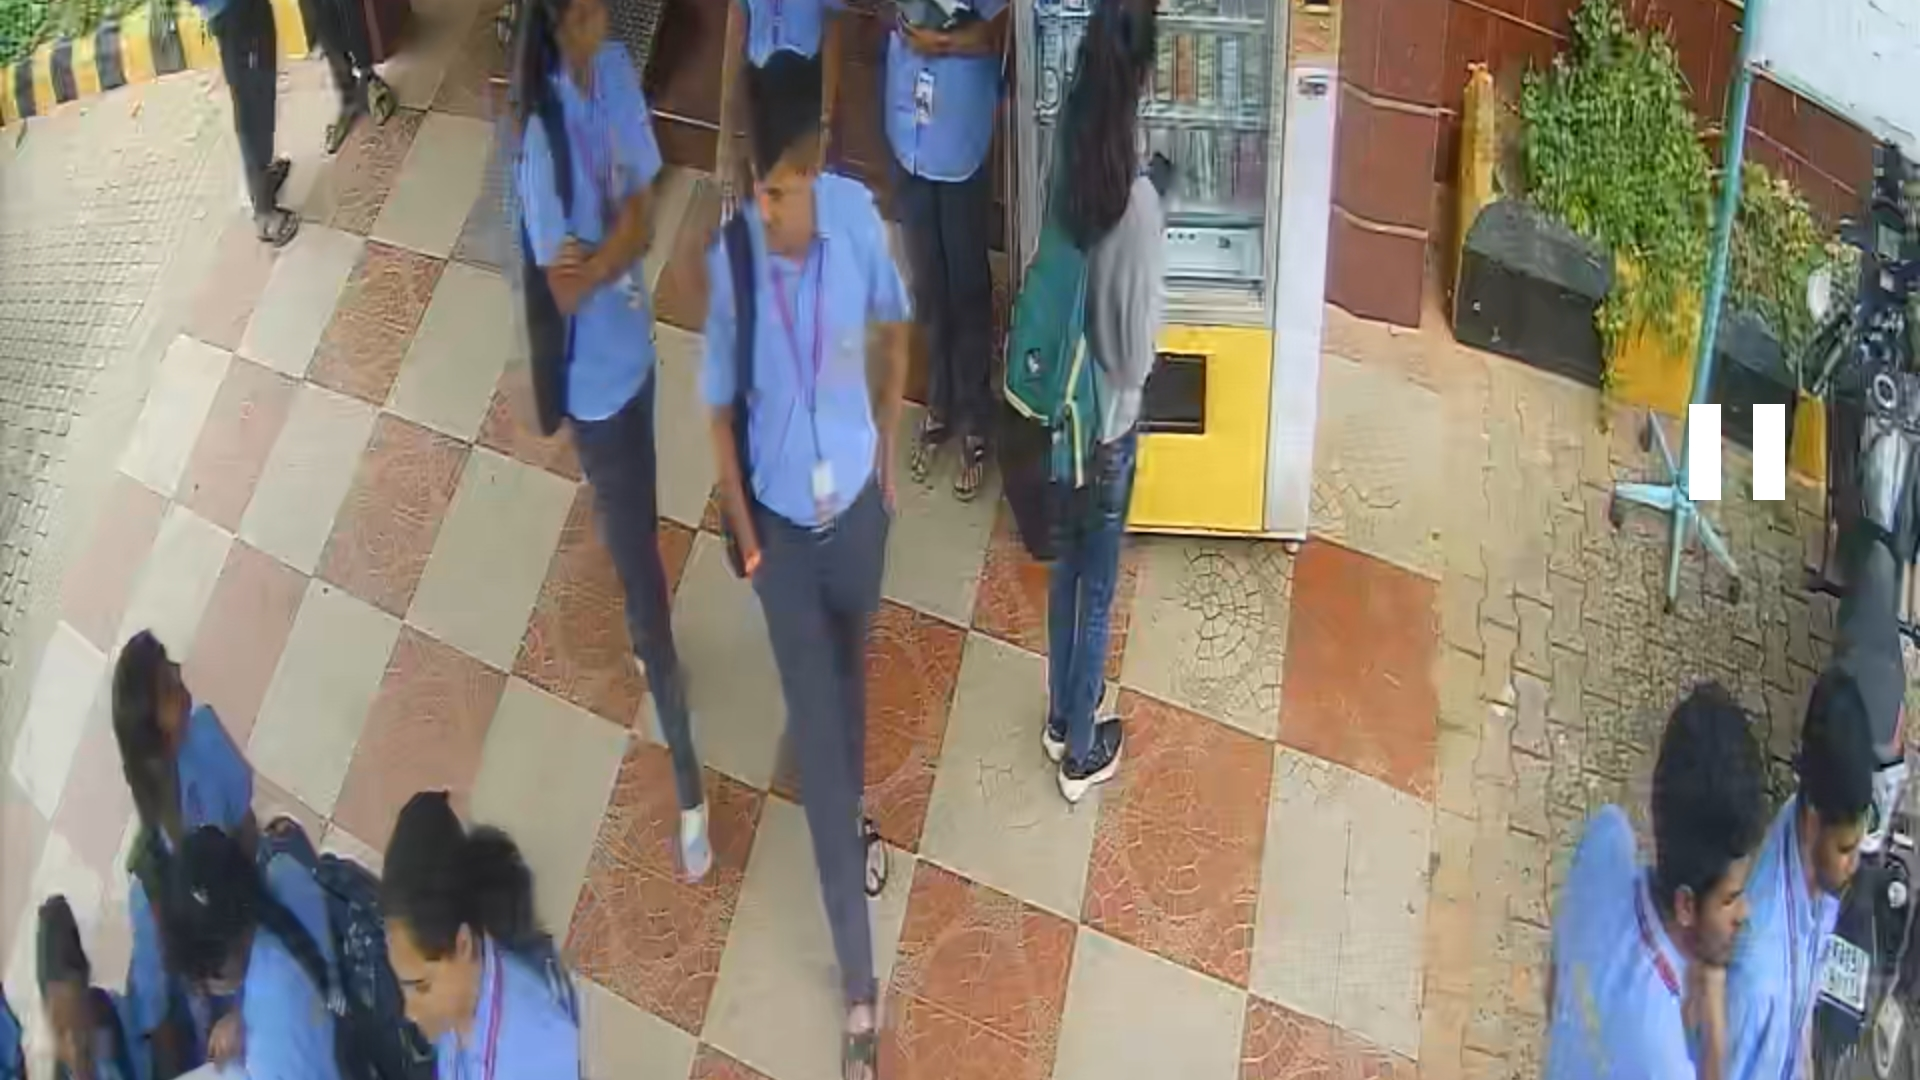not intruder: (711, 47, 930, 1069), (497, 1, 736, 882), (1735, 679, 1898, 1080)
